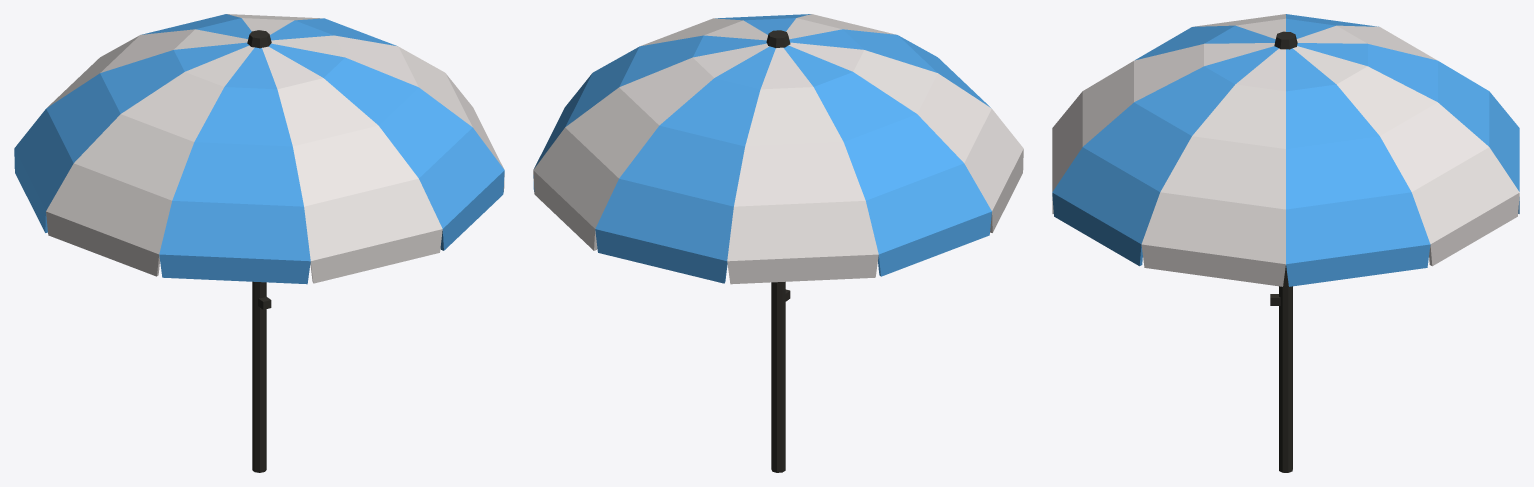
The model's file is SM_Clutter_Umbrella_Blue_01.fbx.
3 views of the same model, side by side, from view 1: azimuth 30°, elevation 25°; view 2: azimuth 150°, elevation 25°; view 3: azimuth 270°, elevation 25° (orthographic).
Parts seen in each view (by area): view 1: SM_Clutter_Umbrella_Blue_01; view 2: SM_Clutter_Umbrella_Blue_01; view 3: SM_Clutter_Umbrella_Blue_01.
Part boxes in pixels (x1,y1,x2,y2): SM_Clutter_Umbrella_Blue_01: (14,14,504,472); SM_Clutter_Umbrella_Blue_01: (533,14,1023,472); SM_Clutter_Umbrella_Blue_01: (1052,14,1519,472).
Bounding box in the file's own units: 2.36 × 2.3 × 2.24.
1 material, 1 textured.
